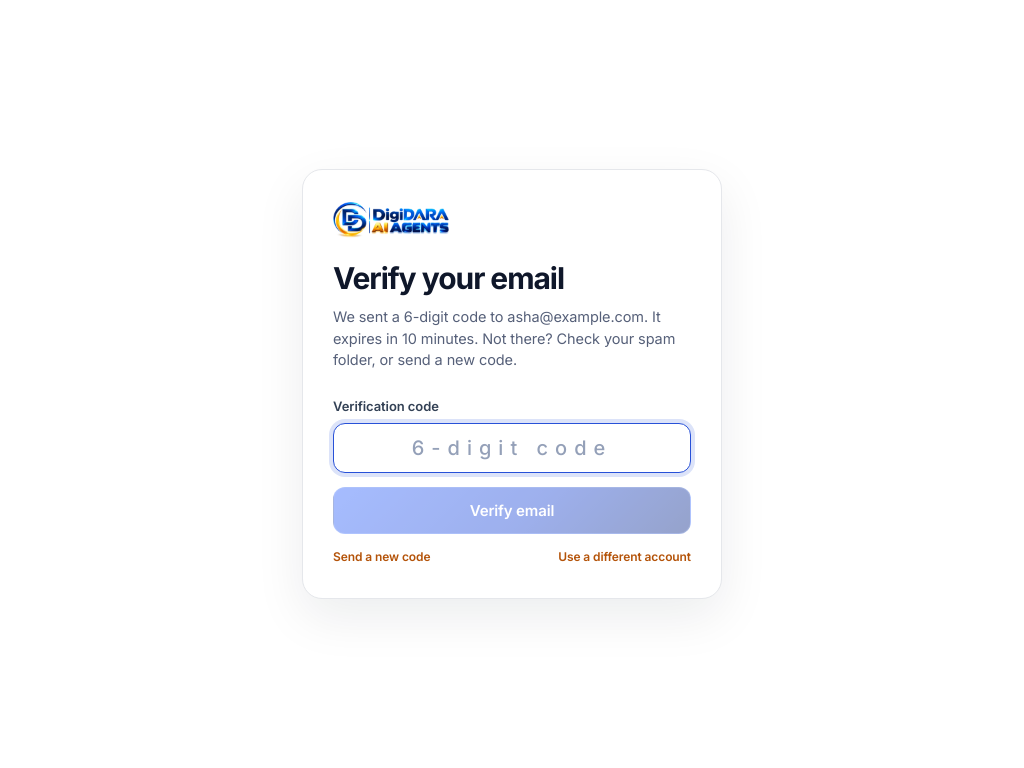
Test: a wrong code shows the server message
The width and height of the screenshot is (1024, 768).
Type "000000" into the field labelled "Verification code" at [512, 448], box x1=333 y1=423 x2=691 y2=473
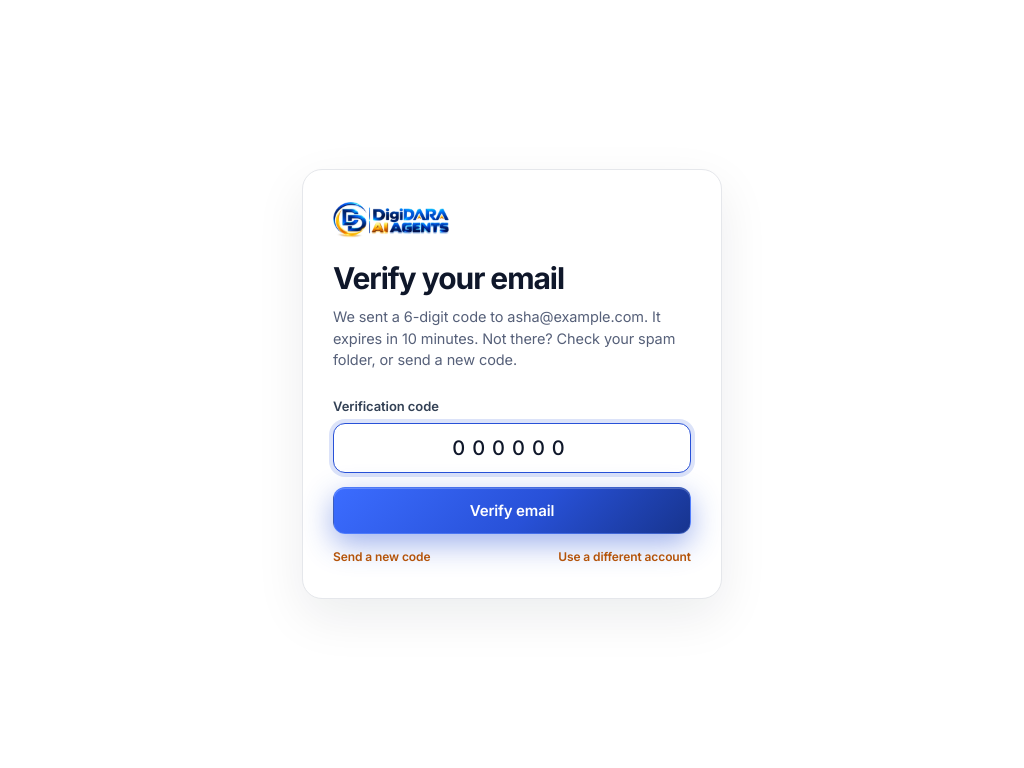
Click the button "Verify email" at [512, 510], box x1=333 y1=487 x2=691 y2=534
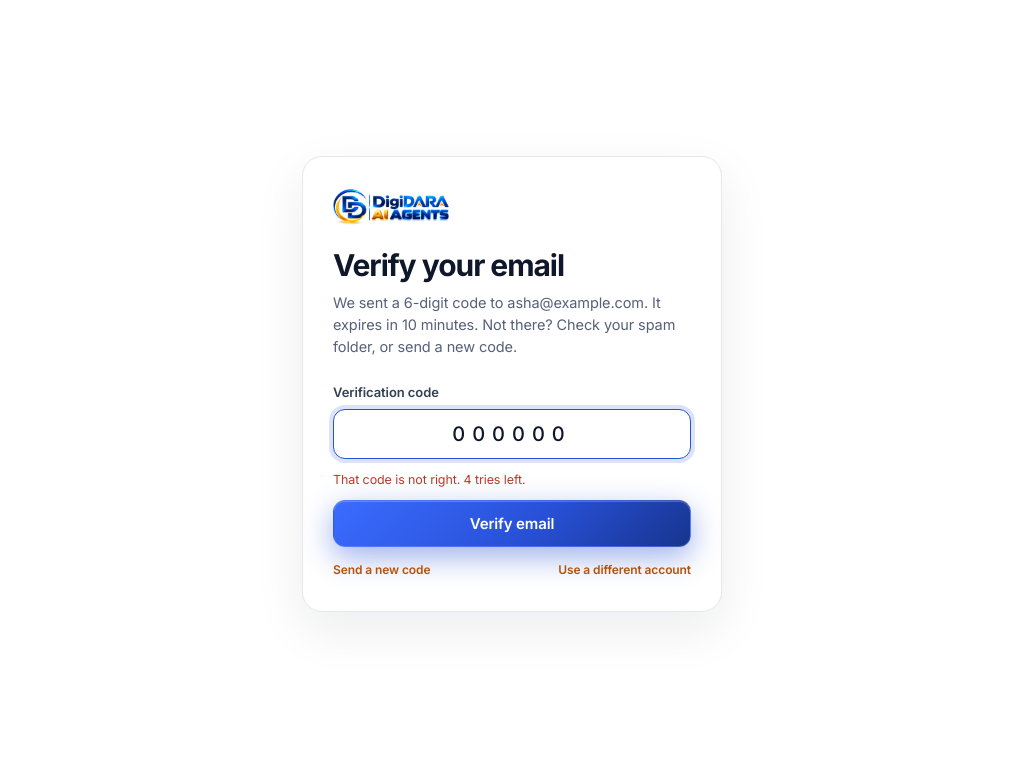
Expected: the message "That code is not right. 4 tries left." is shown, x1=333 y1=472 x2=526 y2=487
